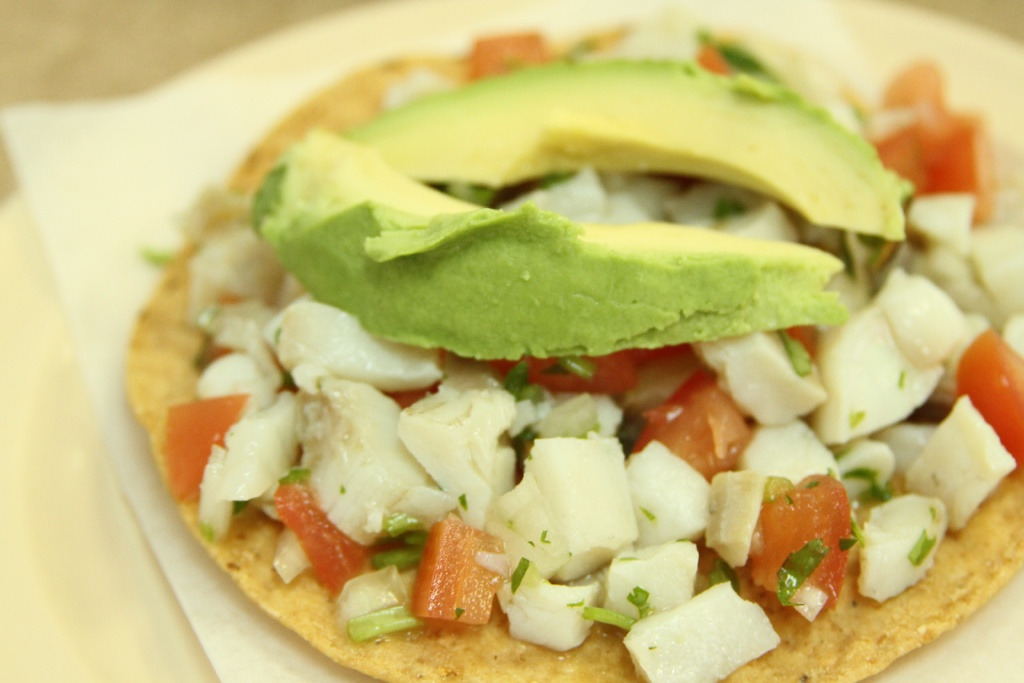salad: (163, 17, 1023, 682)
